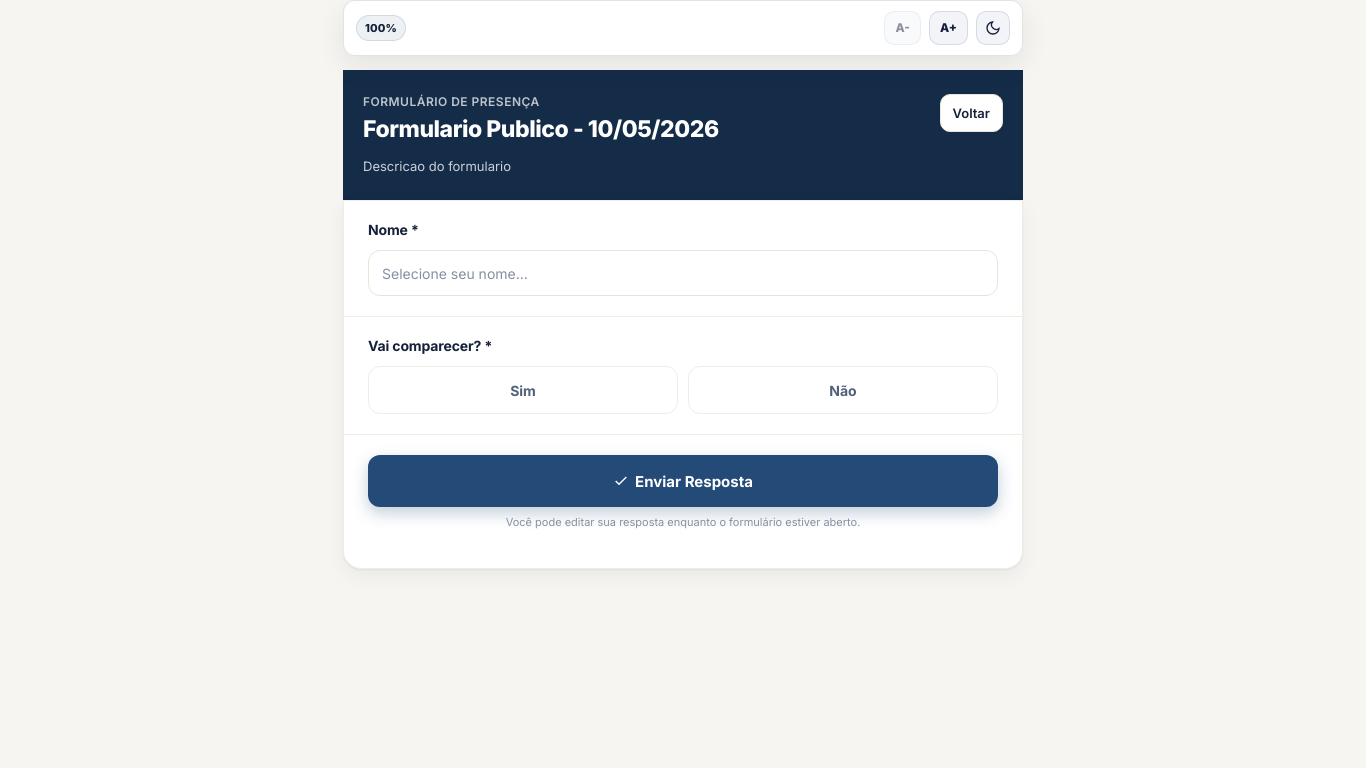
Test: PublicFormScreen › abre modal de edicao quando a pessoa ja respondeu
Select "Maria" in the dropdown at (683, 273), box top-left (368, 250), bottom-right (998, 296)
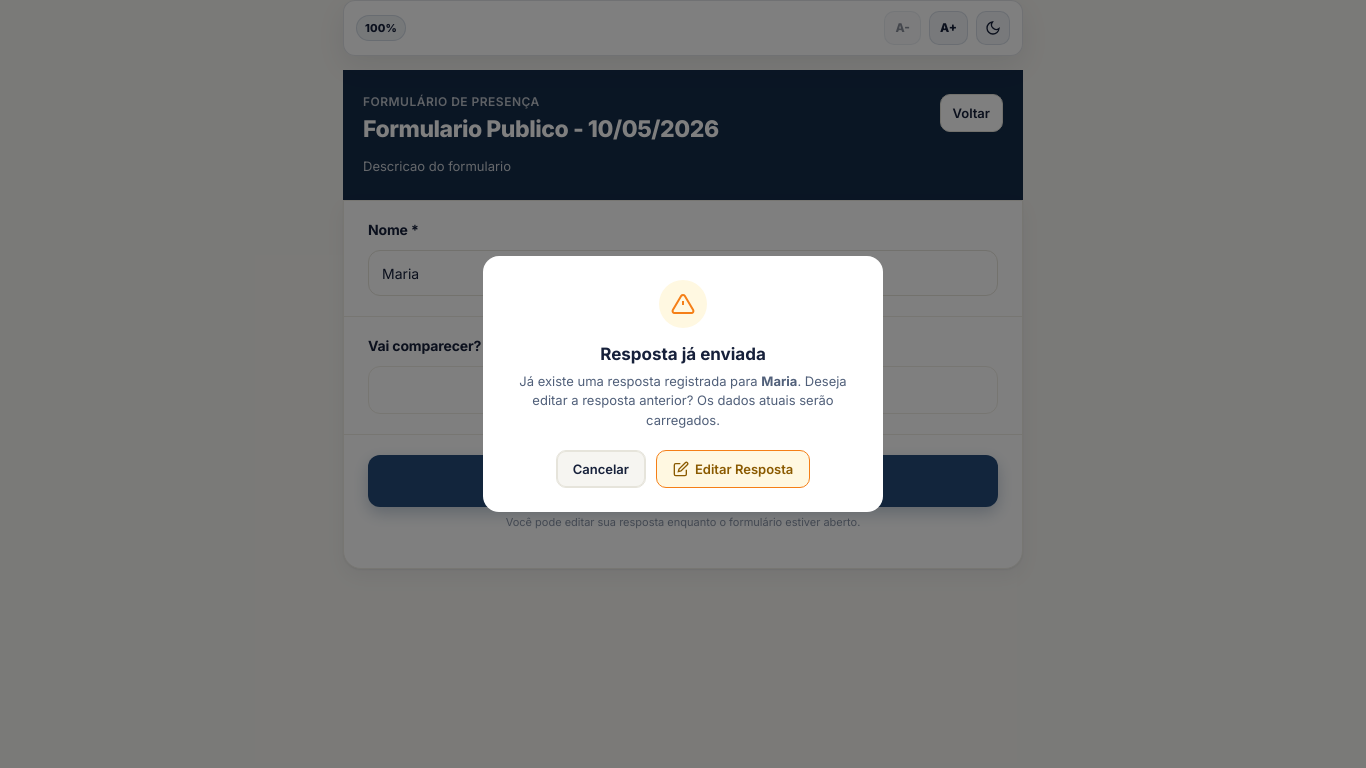
Expected: the heading "Resposta já enviada" is shown, top-left (600, 344), bottom-right (766, 364)
